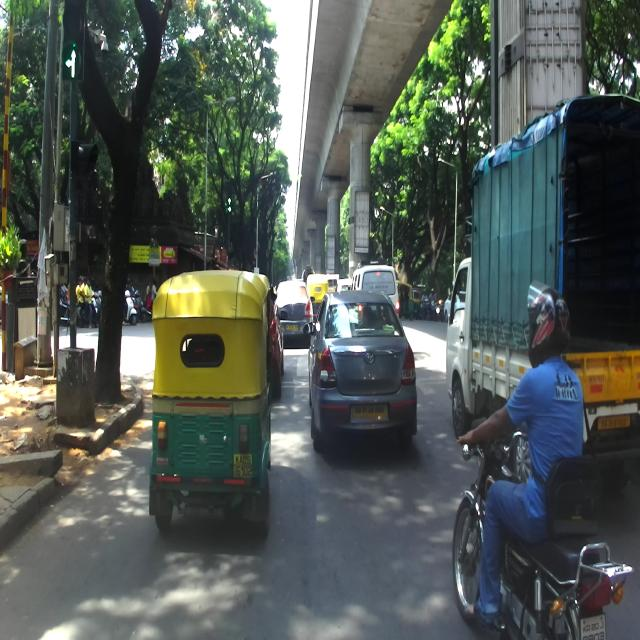auto ahead at: (152, 263, 280, 544)
car ahead at: (305, 282, 424, 470)
motorcycle ahead at: (449, 285, 640, 640), (448, 421, 633, 640)
tree ahead at: (90, 84, 142, 411)
